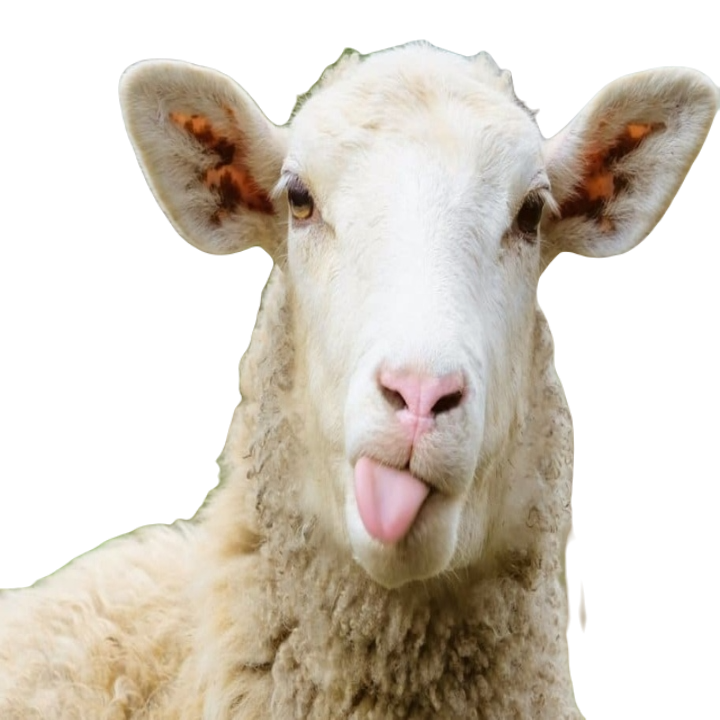Sheep: (0, 34, 719, 719)
